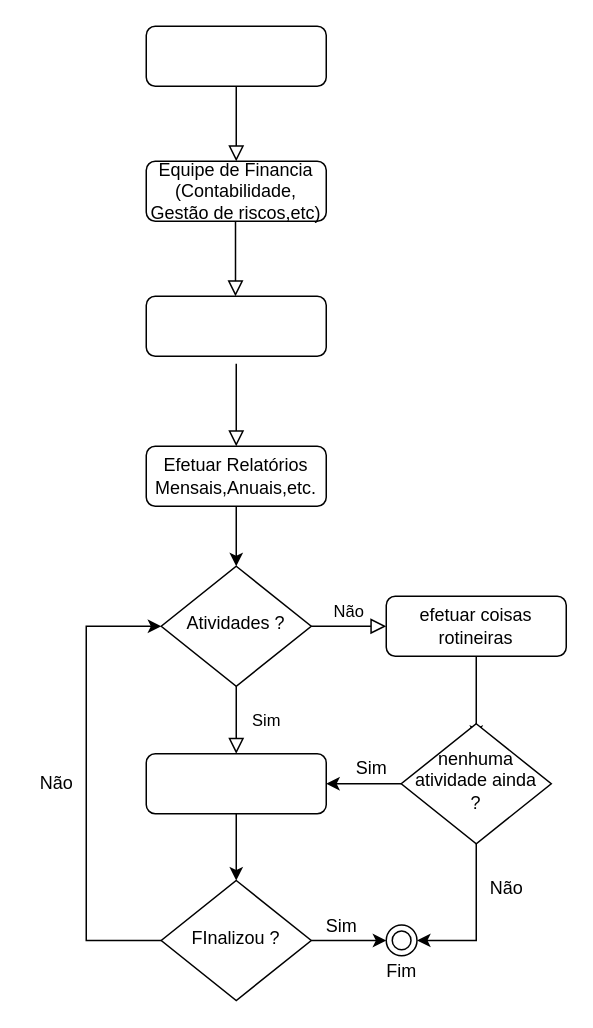
This 593x1028 diagram has some shape labels left out. Here are the shapes that lost their labels. From the top down, the centre of each, then its label:
[235,55]: Inicio
[235,325]: Realizar análise da empresa
[235,783]: Formalizar conforme os procedimentos da empresa
